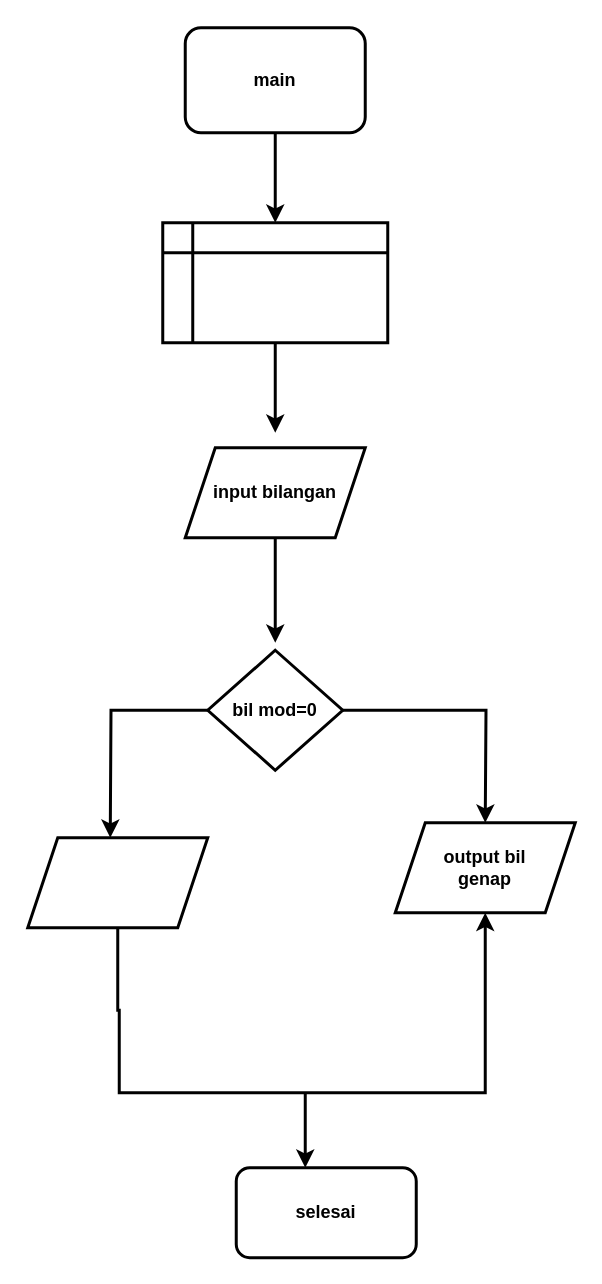
Image size: 602x1284. Some labels were removed from this diagram. The centre of each missing label's shape, as x and y in pixels:
integer bilangan: the point at 274,282
output bil ganjil: the point at 117,882
